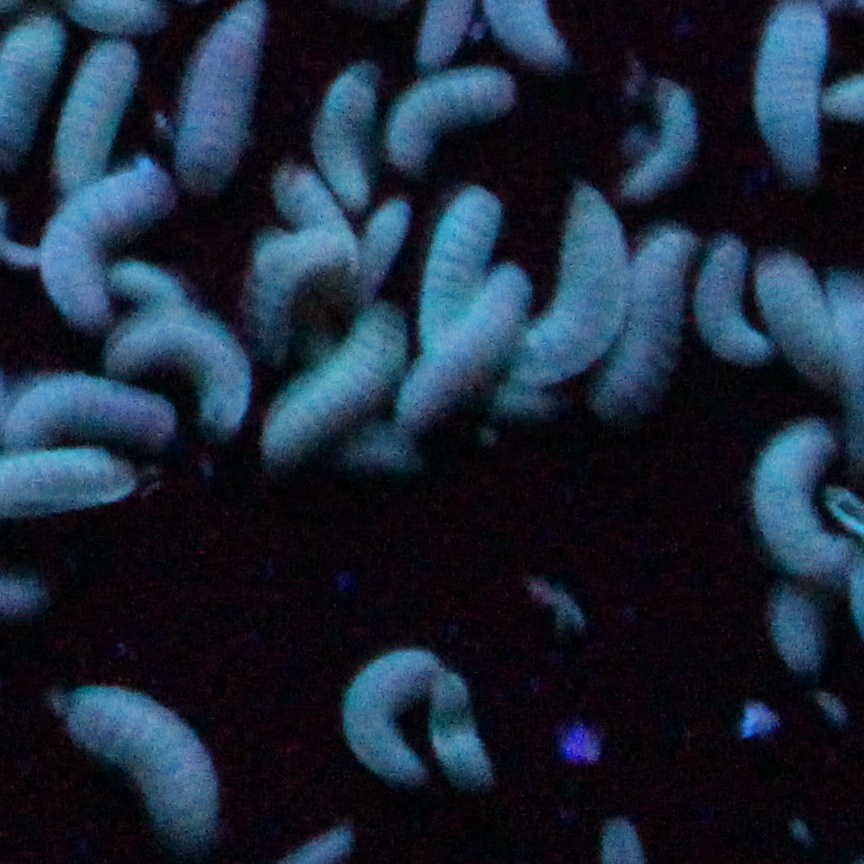larve: (50, 672, 228, 847), (255, 289, 412, 463), (39, 152, 184, 333), (514, 181, 631, 403), (741, 413, 864, 591), (324, 624, 437, 797), (423, 179, 508, 361), (50, 35, 144, 189), (388, 65, 522, 172), (691, 224, 779, 381), (308, 48, 384, 223), (420, 660, 510, 798), (622, 75, 701, 195)
